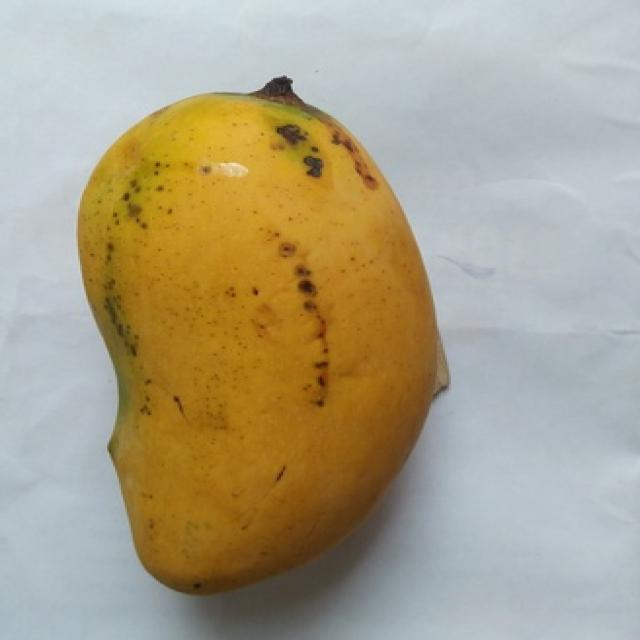Mango: (80, 94, 445, 592)
objects: (74, 73, 451, 595)
